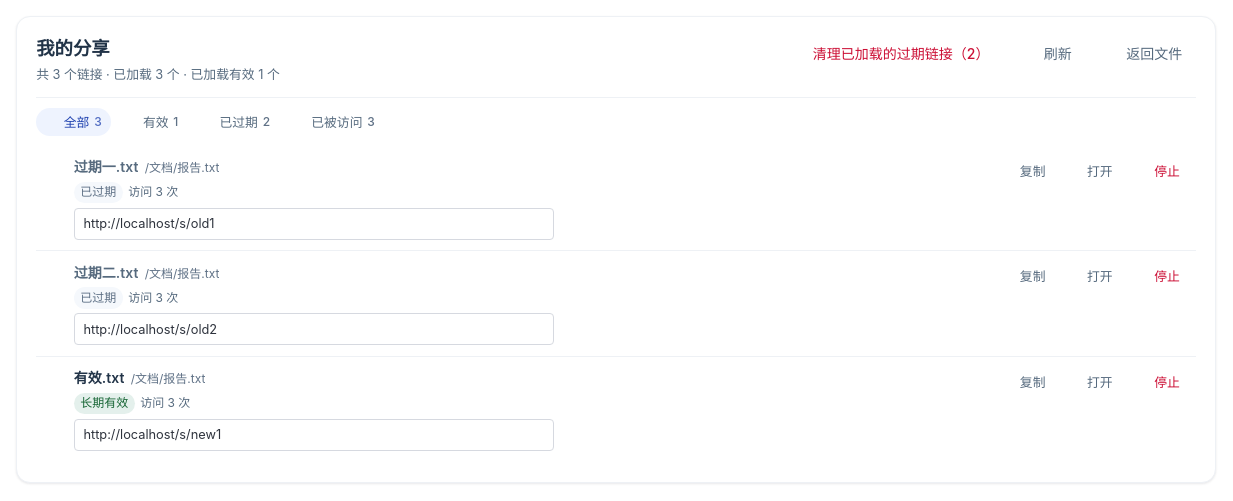
SharedLinks.vue › stops every expired link from the bulk action
Expected: the text "过期一.txt" is shown, top-left (74, 156), bottom-right (138, 177)
Click the button "清理已加载的过期链接（2）": (890, 53) top-left (778, 35), bottom-right (1003, 71)
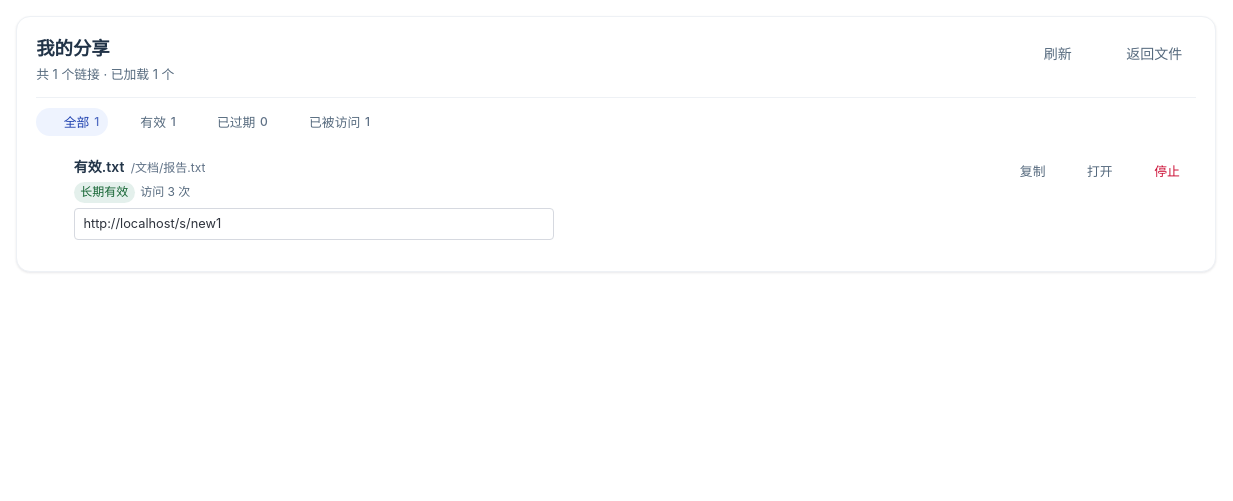
Expected: the text with class "shares-name" reads "有效.txt", top-left (74, 158), bottom-right (124, 175)
Expected: the number of list items with class "shares-row" is 1, top-left (36, 146), bottom-right (1196, 250)
